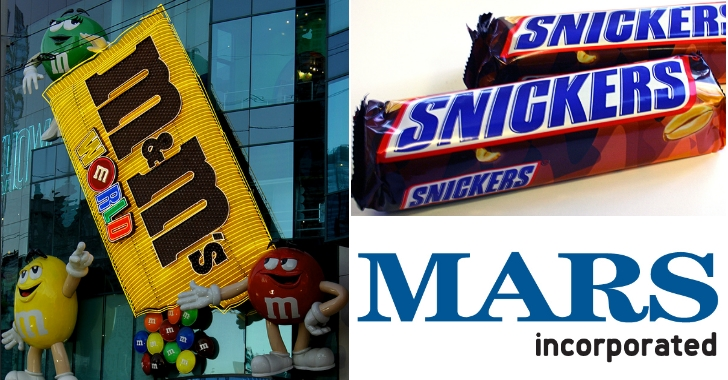snickers: (395, 60, 685, 152), (513, 3, 726, 51), (408, 163, 535, 206)
